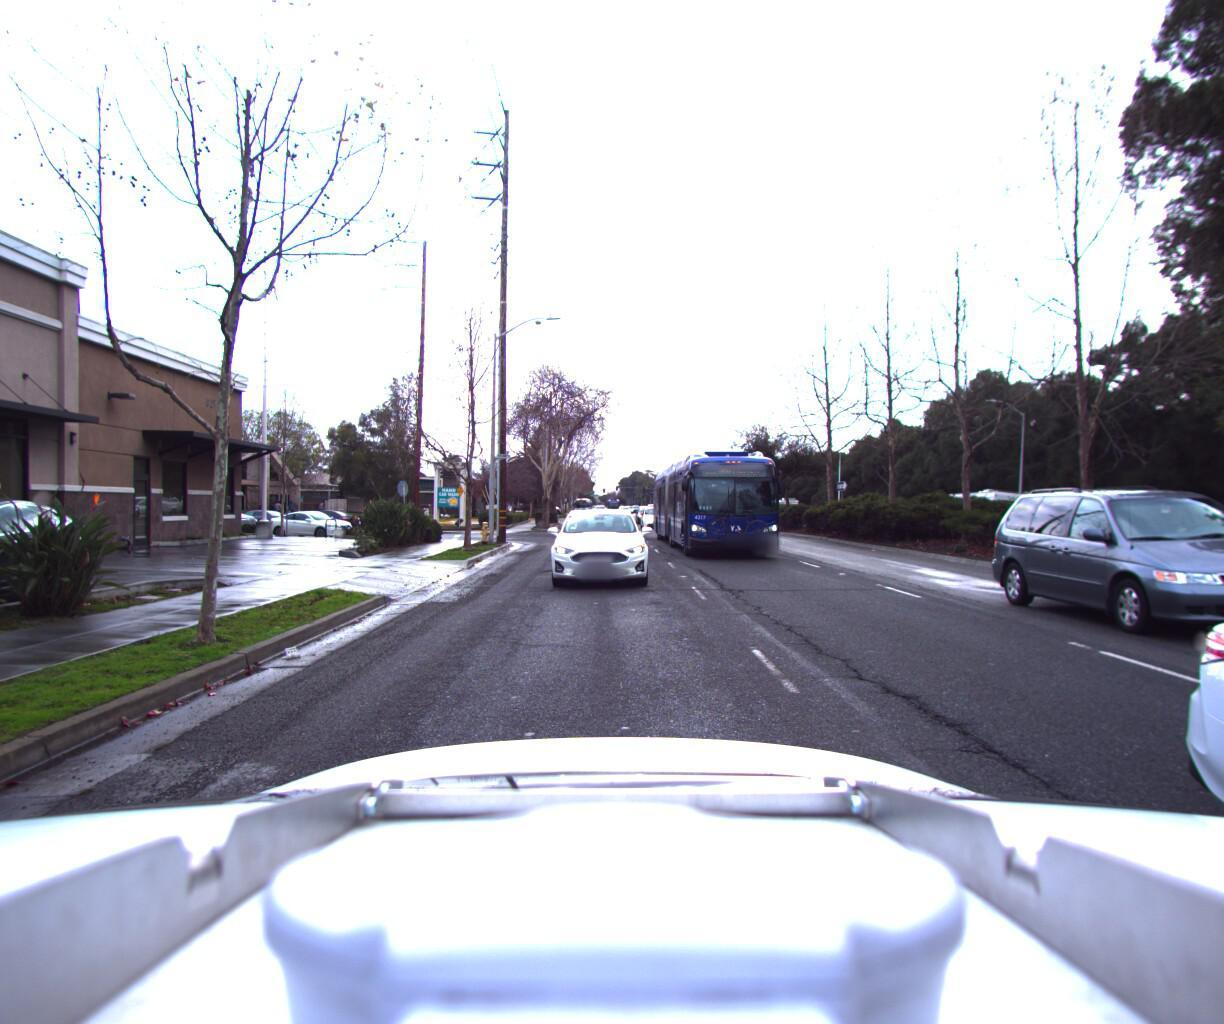bus: (648, 449, 792, 571)
car: (982, 480, 1224, 659), (0, 497, 134, 642), (544, 494, 653, 598), (266, 516, 368, 546), (637, 507, 673, 536)
other_vehicle: (937, 492, 1038, 547), (1206, 481, 1224, 578)
